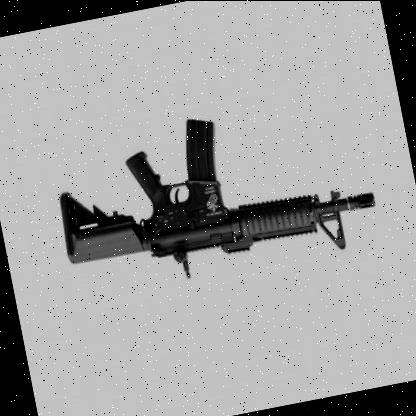rifle: (41, 80, 388, 315)
